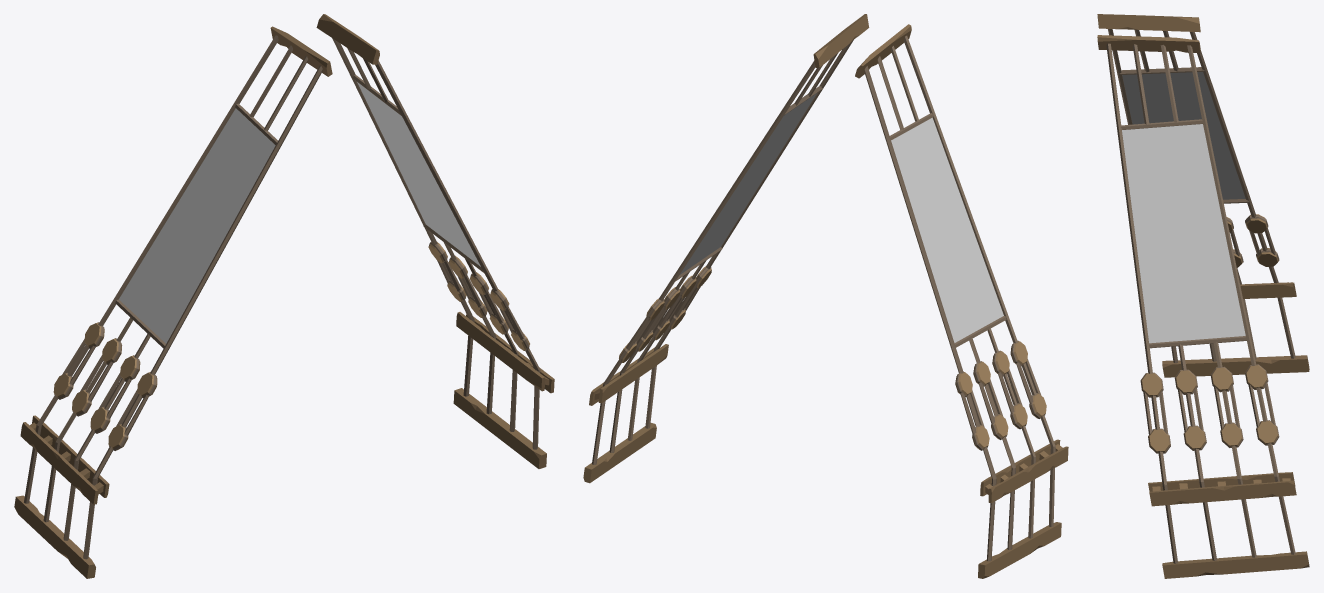
File: SM_Veh_Ship_L_01_Ratlines_Back_01.fbx
The picture shows the model from 3 angles, left to right: view 1: azimuth 30°, elevation 25°; view 2: azimuth 150°, elevation 25°; view 3: azimuth 270°, elevation 25°; orthographic projection. The views are drawn at different scales.
Parts seen in each view (by area): view 1: SM_Veh_Ship_L_01_Ratlines_Back_01; view 2: SM_Veh_Ship_L_01_Ratlines_Back_01; view 3: SM_Veh_Ship_L_01_Ratlines_Back_01.
Part boxes in pixels (x1=…): SM_Veh_Ship_L_01_Ratlines_Back_01: x1=14, y1=14, x2=554, y2=578; SM_Veh_Ship_L_01_Ratlines_Back_01: x1=583, y1=14, x2=1068, y2=578; SM_Veh_Ship_L_01_Ratlines_Back_01: x1=1097, y1=14, x2=1309, y2=578.
Bounding box in the file's own units: 963 × 988 × 420.
